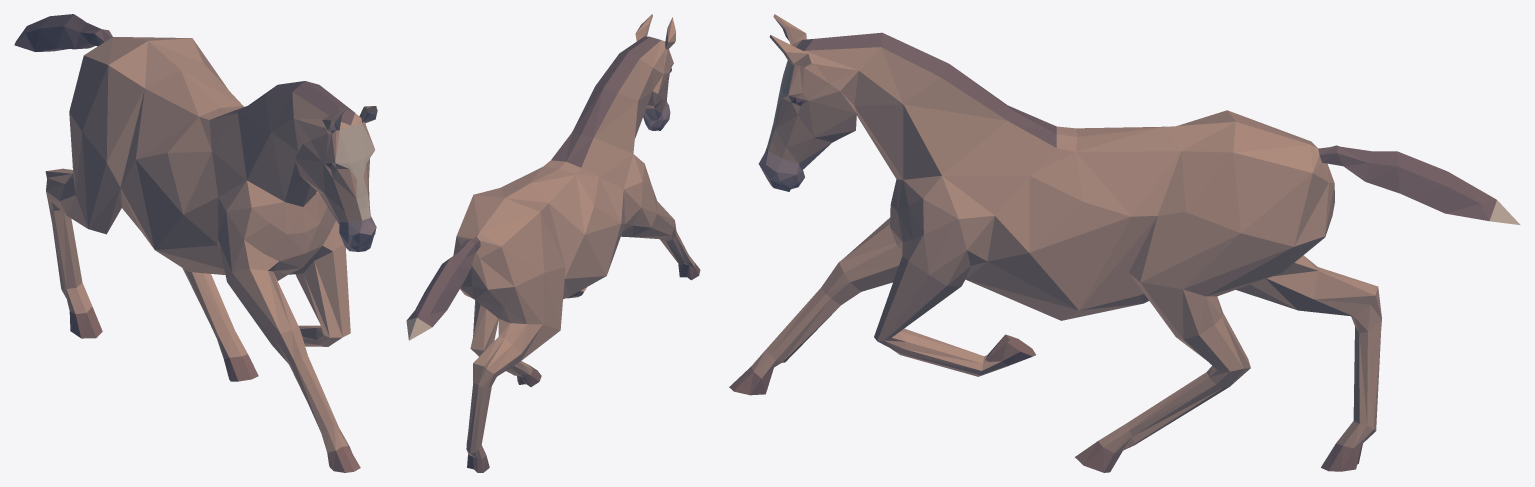
The model's file is Horse.glb.
The picture shows the model from 3 angles, left to right: view 1: azimuth 30°, elevation 25°; view 2: azimuth 150°, elevation 25°; view 3: azimuth 270°, elevation 25°; orthographic projection. The views are drawn at different scales.
Parts seen in each view (by area): view 1: mesh_0; view 2: mesh_0; view 3: mesh_0.
Boxes of the visible parts, x1,y1,x2,y2 form: mesh_0: (14,14,377,472); mesh_0: (406,14,700,472); mesh_0: (729,14,1520,472).
Bounding box in the file's own units: 62.84 × 183 × 289.
